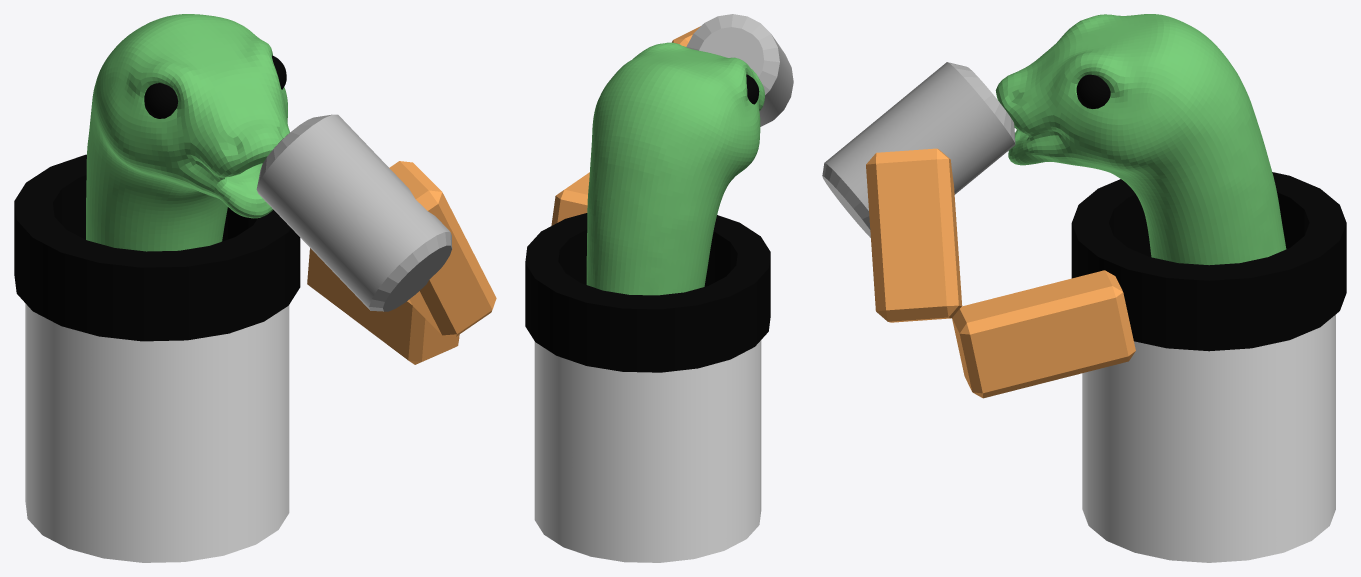
Rendered from sippy.glb.
3 views of the same model, side by side, from view 1: azimuth 30°, elevation 25°; view 2: azimuth 150°, elevation 25°; view 3: azimuth 270°, elevation 25° (orthographic). The views are drawn at different scales.
Visible parts, largest first — view 1: pCylinder1, Group14968, pCylinder2, pCylinder3, pCube2, pCube1, pSphere1; view 2: pCylinder1, Group14968, pCylinder2, pCylinder3, pCube1; view 3: pCylinder1, Group14968, pCylinder2, pCube1, pCube2, pCylinder3, pSphere2.
Boxes of the visible parts, <box> form: pCylinder1: <box>25,303,289,562</box>; Group14968: <box>86,14,289,251</box>; pCylinder2: <box>14,154,300,341</box>; pCylinder3: <box>256,114,452,311</box>; pCube2: <box>389,161,496,336</box>; pCube1: <box>307,248,459,364</box>; pSphere1: <box>144,83,178,118</box>; pCylinder1: <box>534,340,761,562</box>; Group14968: <box>586,42,764,295</box>; pCylinder2: <box>525,213,770,372</box>; pCylinder3: <box>686,14,793,126</box>; pCube1: <box>551,172,589,225</box>; pCylinder1: <box>1082,314,1335,562</box>; Group14968: <box>995,14,1286,265</box>; pCylinder2: <box>1071,172,1346,351</box>; pCube1: <box>952,270,1135,398</box>; pCube2: <box>866,148,962,322</box>; pCylinder3: <box>822,62,1015,237</box>; pSphere2: <box>1076,74,1110,108</box>.
Size of the model in its own units: 0.0325 by 0.0509 by 0.05.
